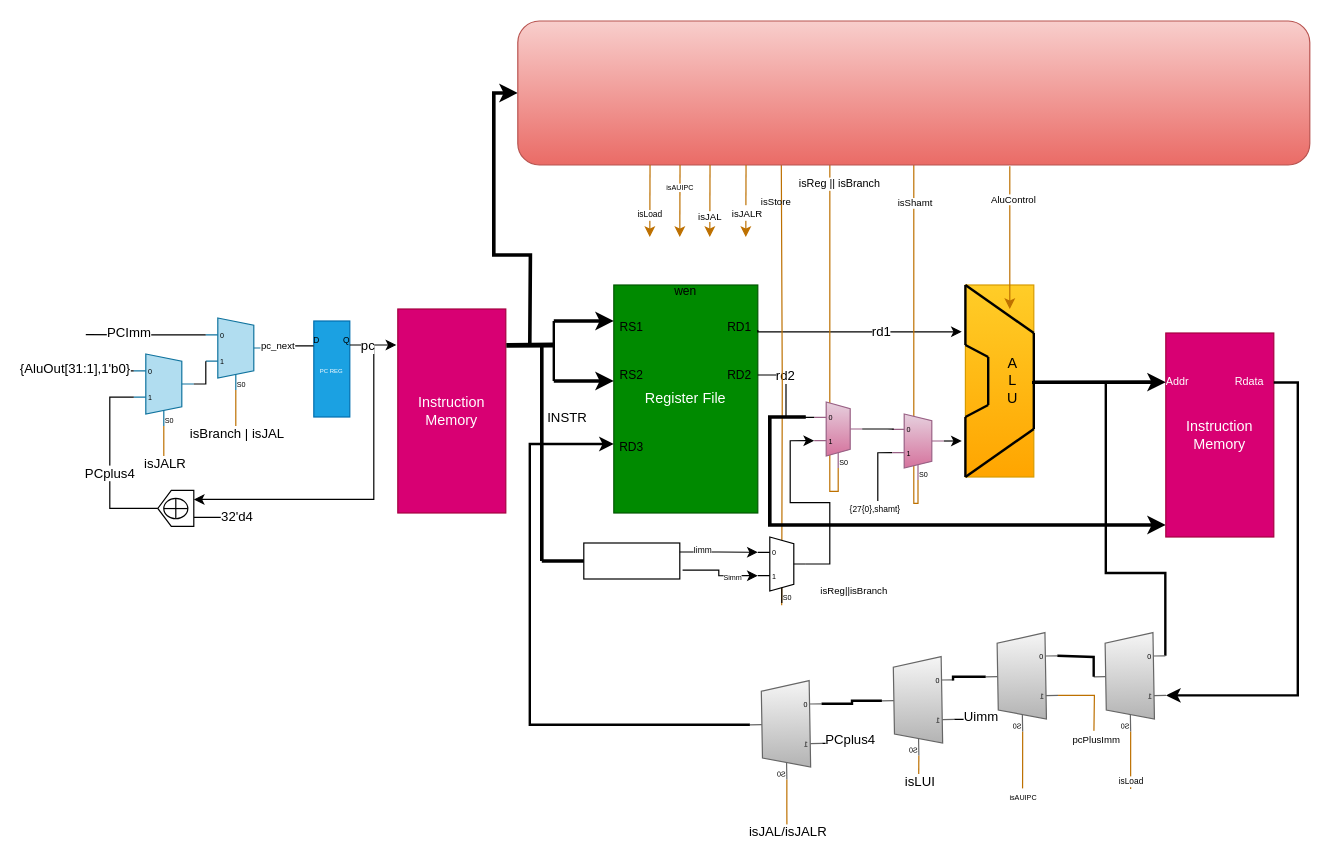
This 1332x860 diagram has some shape labels left out. Each missing label, with the centre of its shape:
"Decoder" belongs at pixel 913 92.
"sign Extension" belongs at pixel 631 560.
